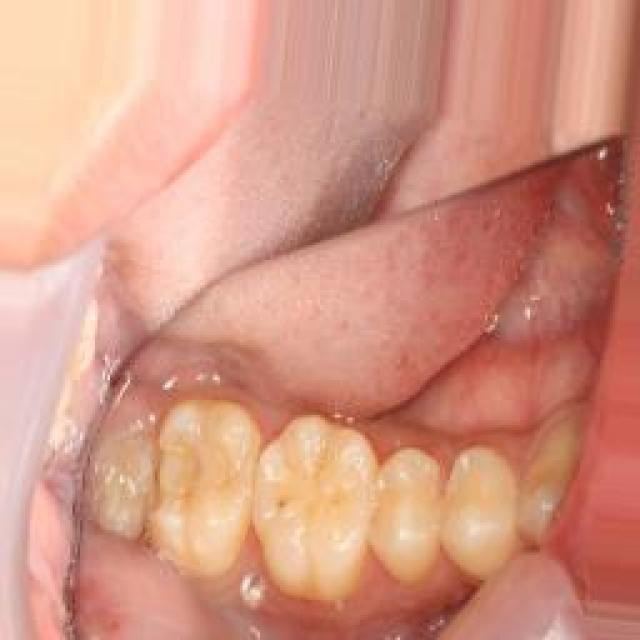decay: (95, 433, 160, 535)
